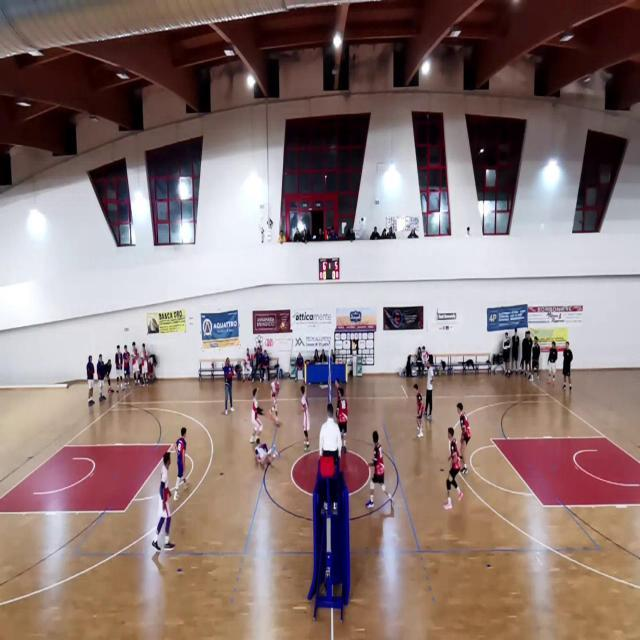volleyball: (280, 322, 288, 330)
